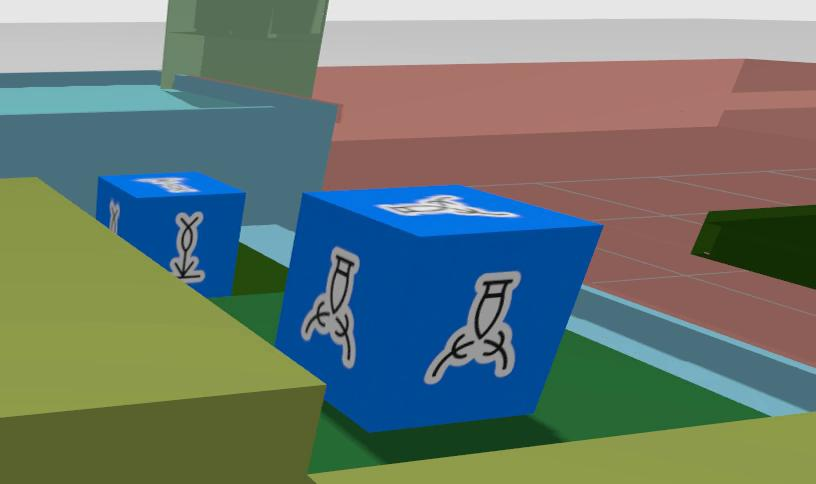KFS_REAL: (275, 185, 601, 430), (94, 172, 245, 296), (424, 271, 520, 384), (300, 247, 358, 368), (377, 194, 519, 217), (167, 212, 205, 283), (137, 176, 197, 192), (109, 200, 119, 234)
